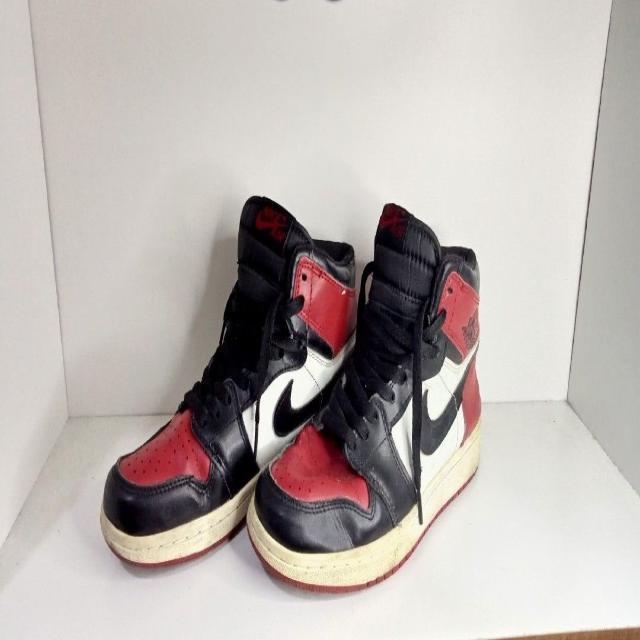nike fake jordan 1: (98, 191, 360, 574), (245, 202, 482, 594)
